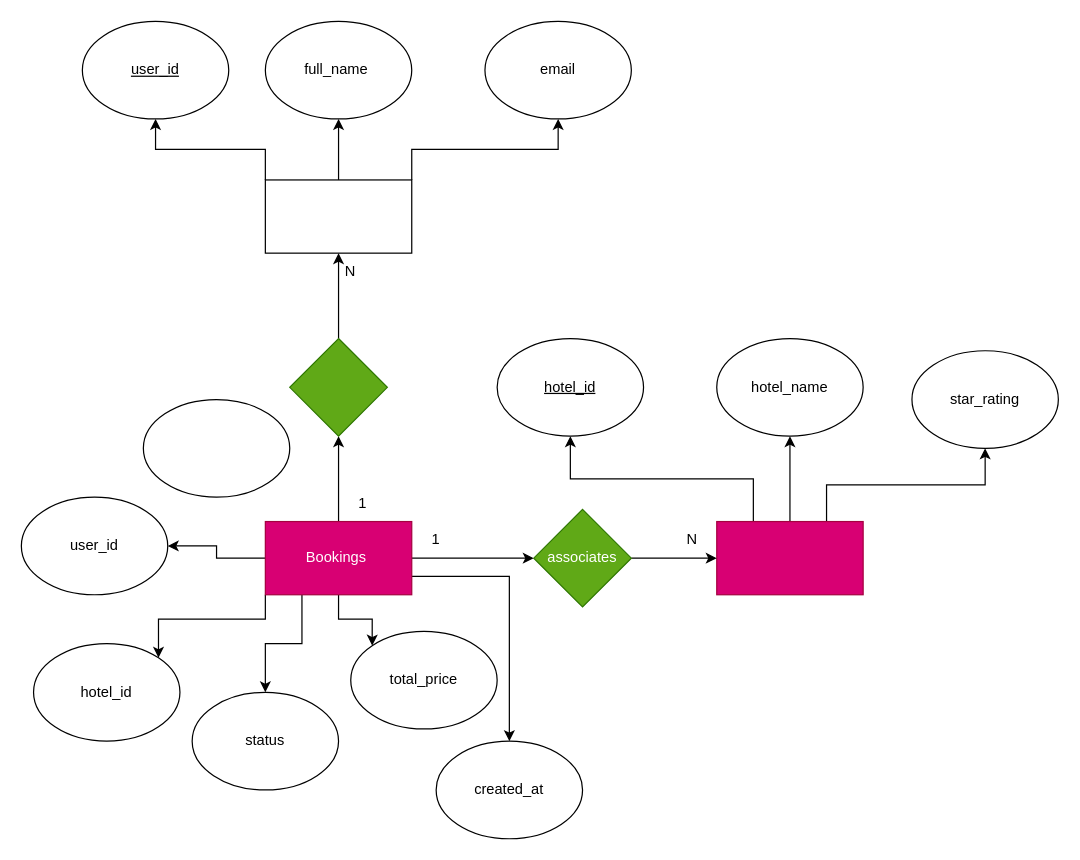
The diagram is 1080 pixels wide and 860 high, and some of its shapes have lost their labels. The box of each missing label's shape, as (x1, y1, x2, y2) in pixels:
booking_id: (142, 398, 290, 497)
Hotels: (716, 520, 863, 595)
places: (289, 337, 387, 436)
Users: (264, 179, 412, 253)
